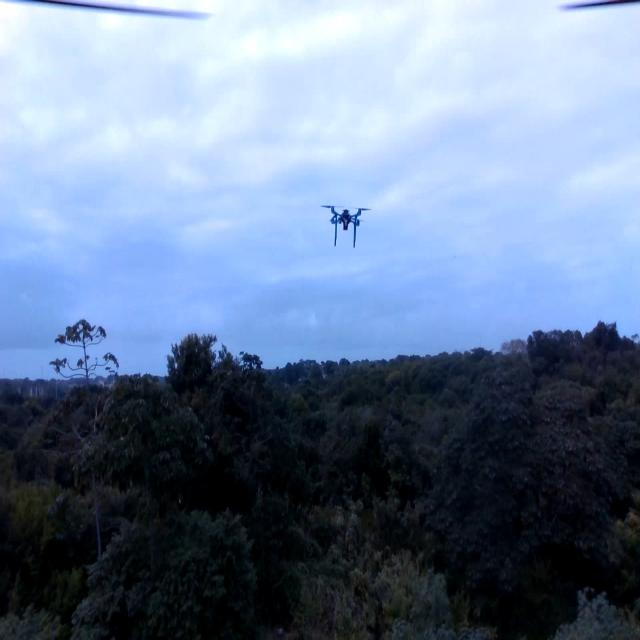-uav-: (317, 185, 375, 256)
